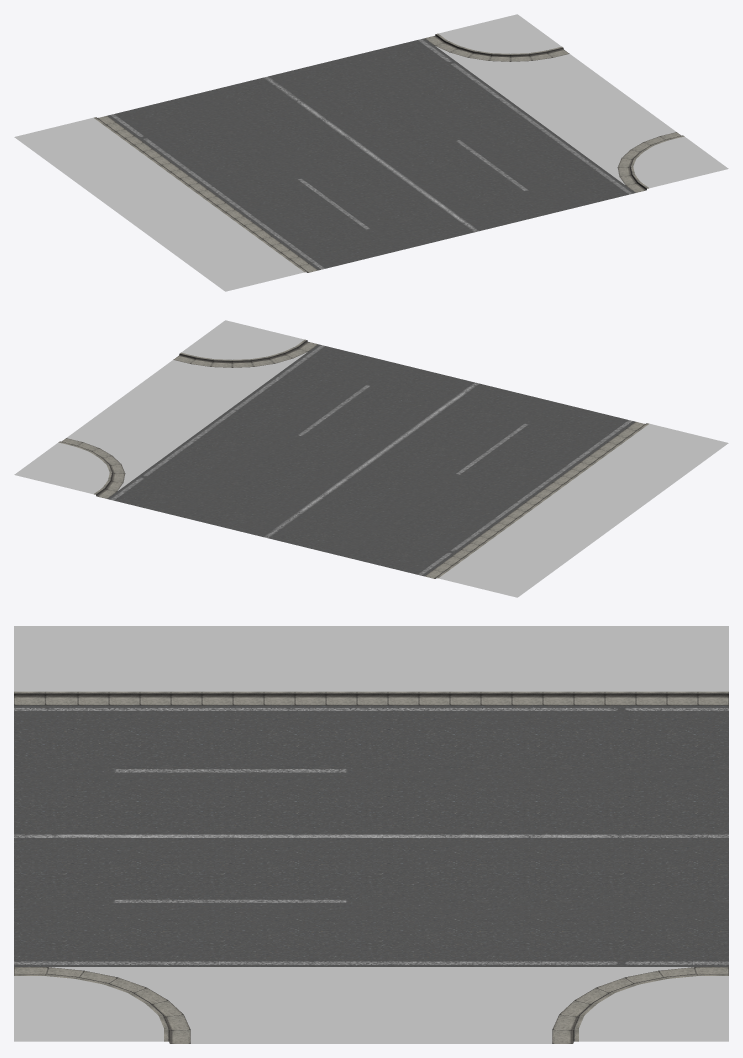
Rendered from 4syasen_Tjiro_1syasen.FBX.
The picture shows the model from 3 angles, top to bottom: view 1: azimuth 30°, elevation 25°; view 2: azimuth 150°, elevation 25°; view 3: azimuth 270°, elevation 25°; orthographic projection. The views are drawn at different scales.
Parts seen in each view (by area): view 1: 4syasen_Tjiro_1syasen; view 2: 4syasen_Tjiro_1syasen; view 3: 4syasen_Tjiro_1syasen.
Boxes of the visible parts, <box> form: 4syasen_Tjiro_1syasen: <box>14,14,728,291</box>; 4syasen_Tjiro_1syasen: <box>14,320,728,597</box>; 4syasen_Tjiro_1syasen: <box>14,626,728,1043</box>.
Size of the model in its own units: 1903 by 5 by 1384.
